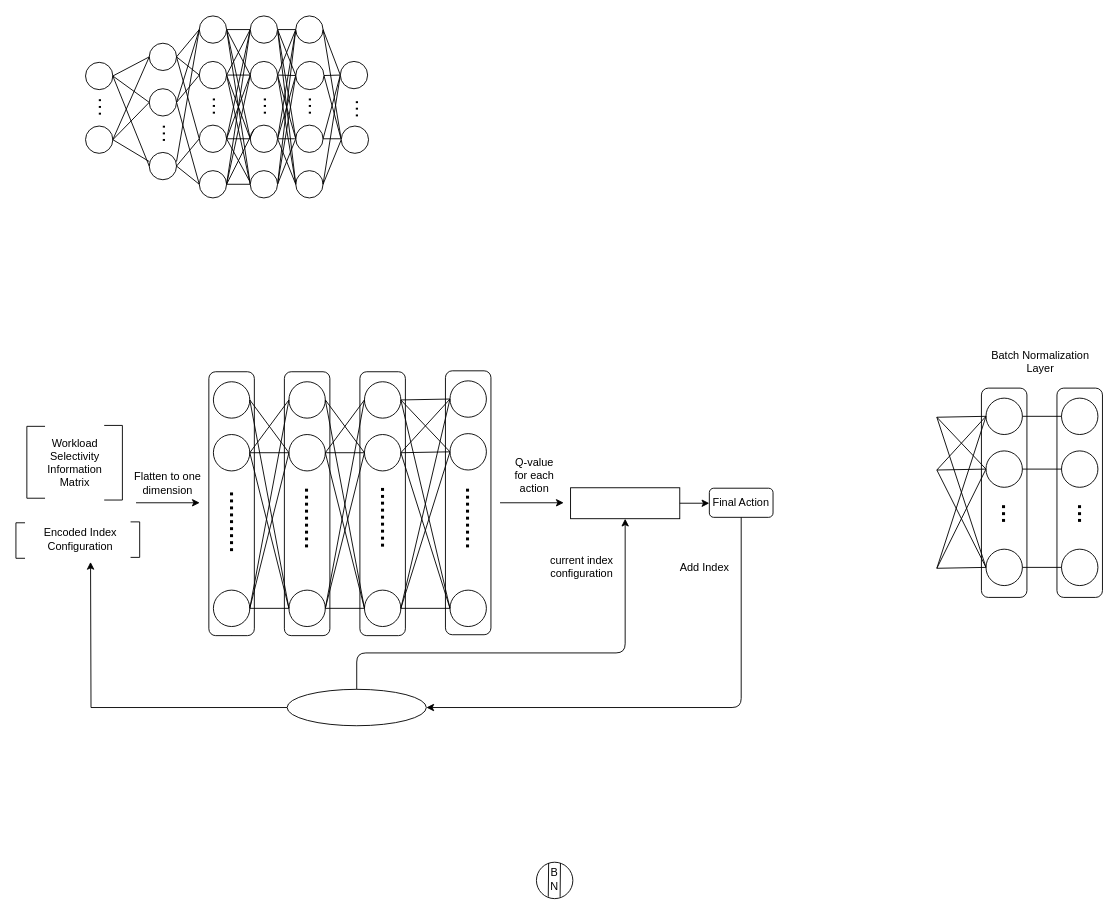
Some shapes in this 1118 by 915 pixel diagram are drawn without their labels. The shapes that lost their labels are listed below. From the top down, each one's centre as x and y in pixels, then its label:
At point 625,503: "Index Policy".
At point 356,707: "Index Configuration".
